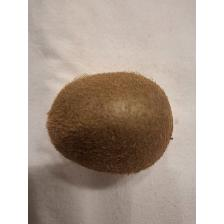Kiwi: (46, 68, 178, 178)
